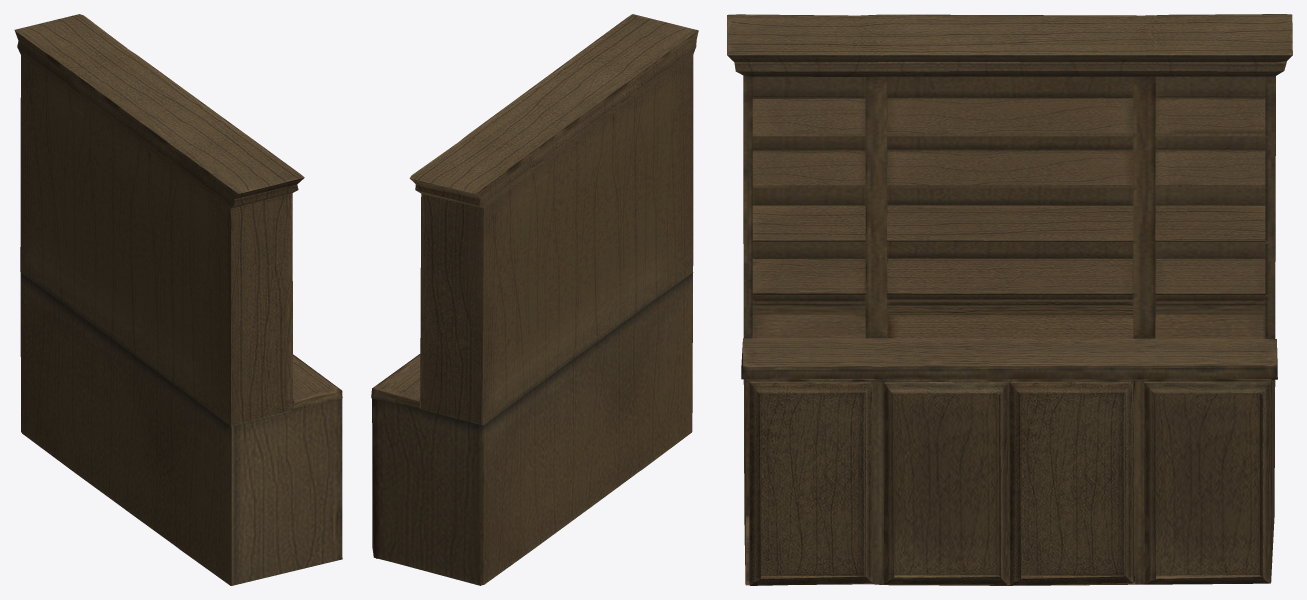
File: Shelf.fbx
3 views of the same model, side by side, from view 1: azimuth 30°, elevation 25°; view 2: azimuth 150°, elevation 25°; view 3: azimuth 270°, elevation 25° (orthographic). The views are drawn at different scales.
Parts seen in each view (by area): view 1: polySurface13; view 2: polySurface13; view 3: polySurface13, polySurface2, polySurface10, polySurface7, polySurface8.
Boxes of the visible parts, left/top/right/bottom form: polySurface13: left=14, top=14, right=342, bottom=585; polySurface13: left=371, top=14, right=698, bottom=585; polySurface13: left=727, top=14, right=1292, bottom=585; polySurface2: left=1144, top=381, right=1270, bottom=584; polySurface10: left=1009, top=381, right=1135, bottom=585; polySurface7: left=883, top=381, right=1008, bottom=584; polySurface8: left=749, top=381, right=872, bottom=585.
Size of the model in its own units: 15.46 by 49.94 by 50.89.
